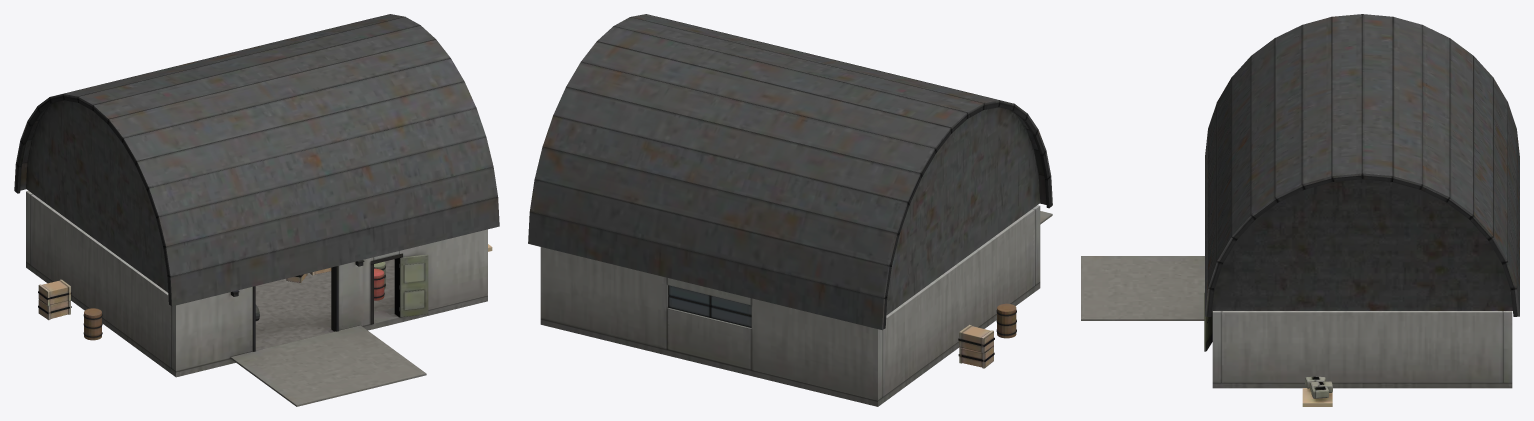
File: bldF.glb
3 views of the same model, side by side, from view 1: azimuth 30°, elevation 25°; view 2: azimuth 150°, elevation 25°; view 3: azimuth 270°, elevation 25° (orthographic). The views are drawn at different scales.
Parts seen in each view (by area): view 1: BldF_Roof, BldF_Shell, BldF_Interior; view 2: BldF_Roof, BldF_Shell, BldF_Interior; view 3: BldF_Roof, BldF_Shell, BldF_Interior.
Boxes of the visible parts, x1,y1,x2,y2 form: BldF_Roof: [14, 14, 499, 306]; BldF_Shell: [26, 191, 487, 406]; BldF_Interior: [38, 244, 492, 340]; BldF_Roof: [528, 14, 1052, 329]; BldF_Shell: [540, 205, 1052, 406]; BldF_Interior: [958, 303, 1016, 368]; BldF_Roof: [1205, 14, 1519, 316]; BldF_Shell: [1081, 256, 1512, 388]; BldF_Interior: [1302, 376, 1332, 406].
Size of the model in its own units: 15.59 by 8.06 by 14.66.
3 materials, 3 textured.
